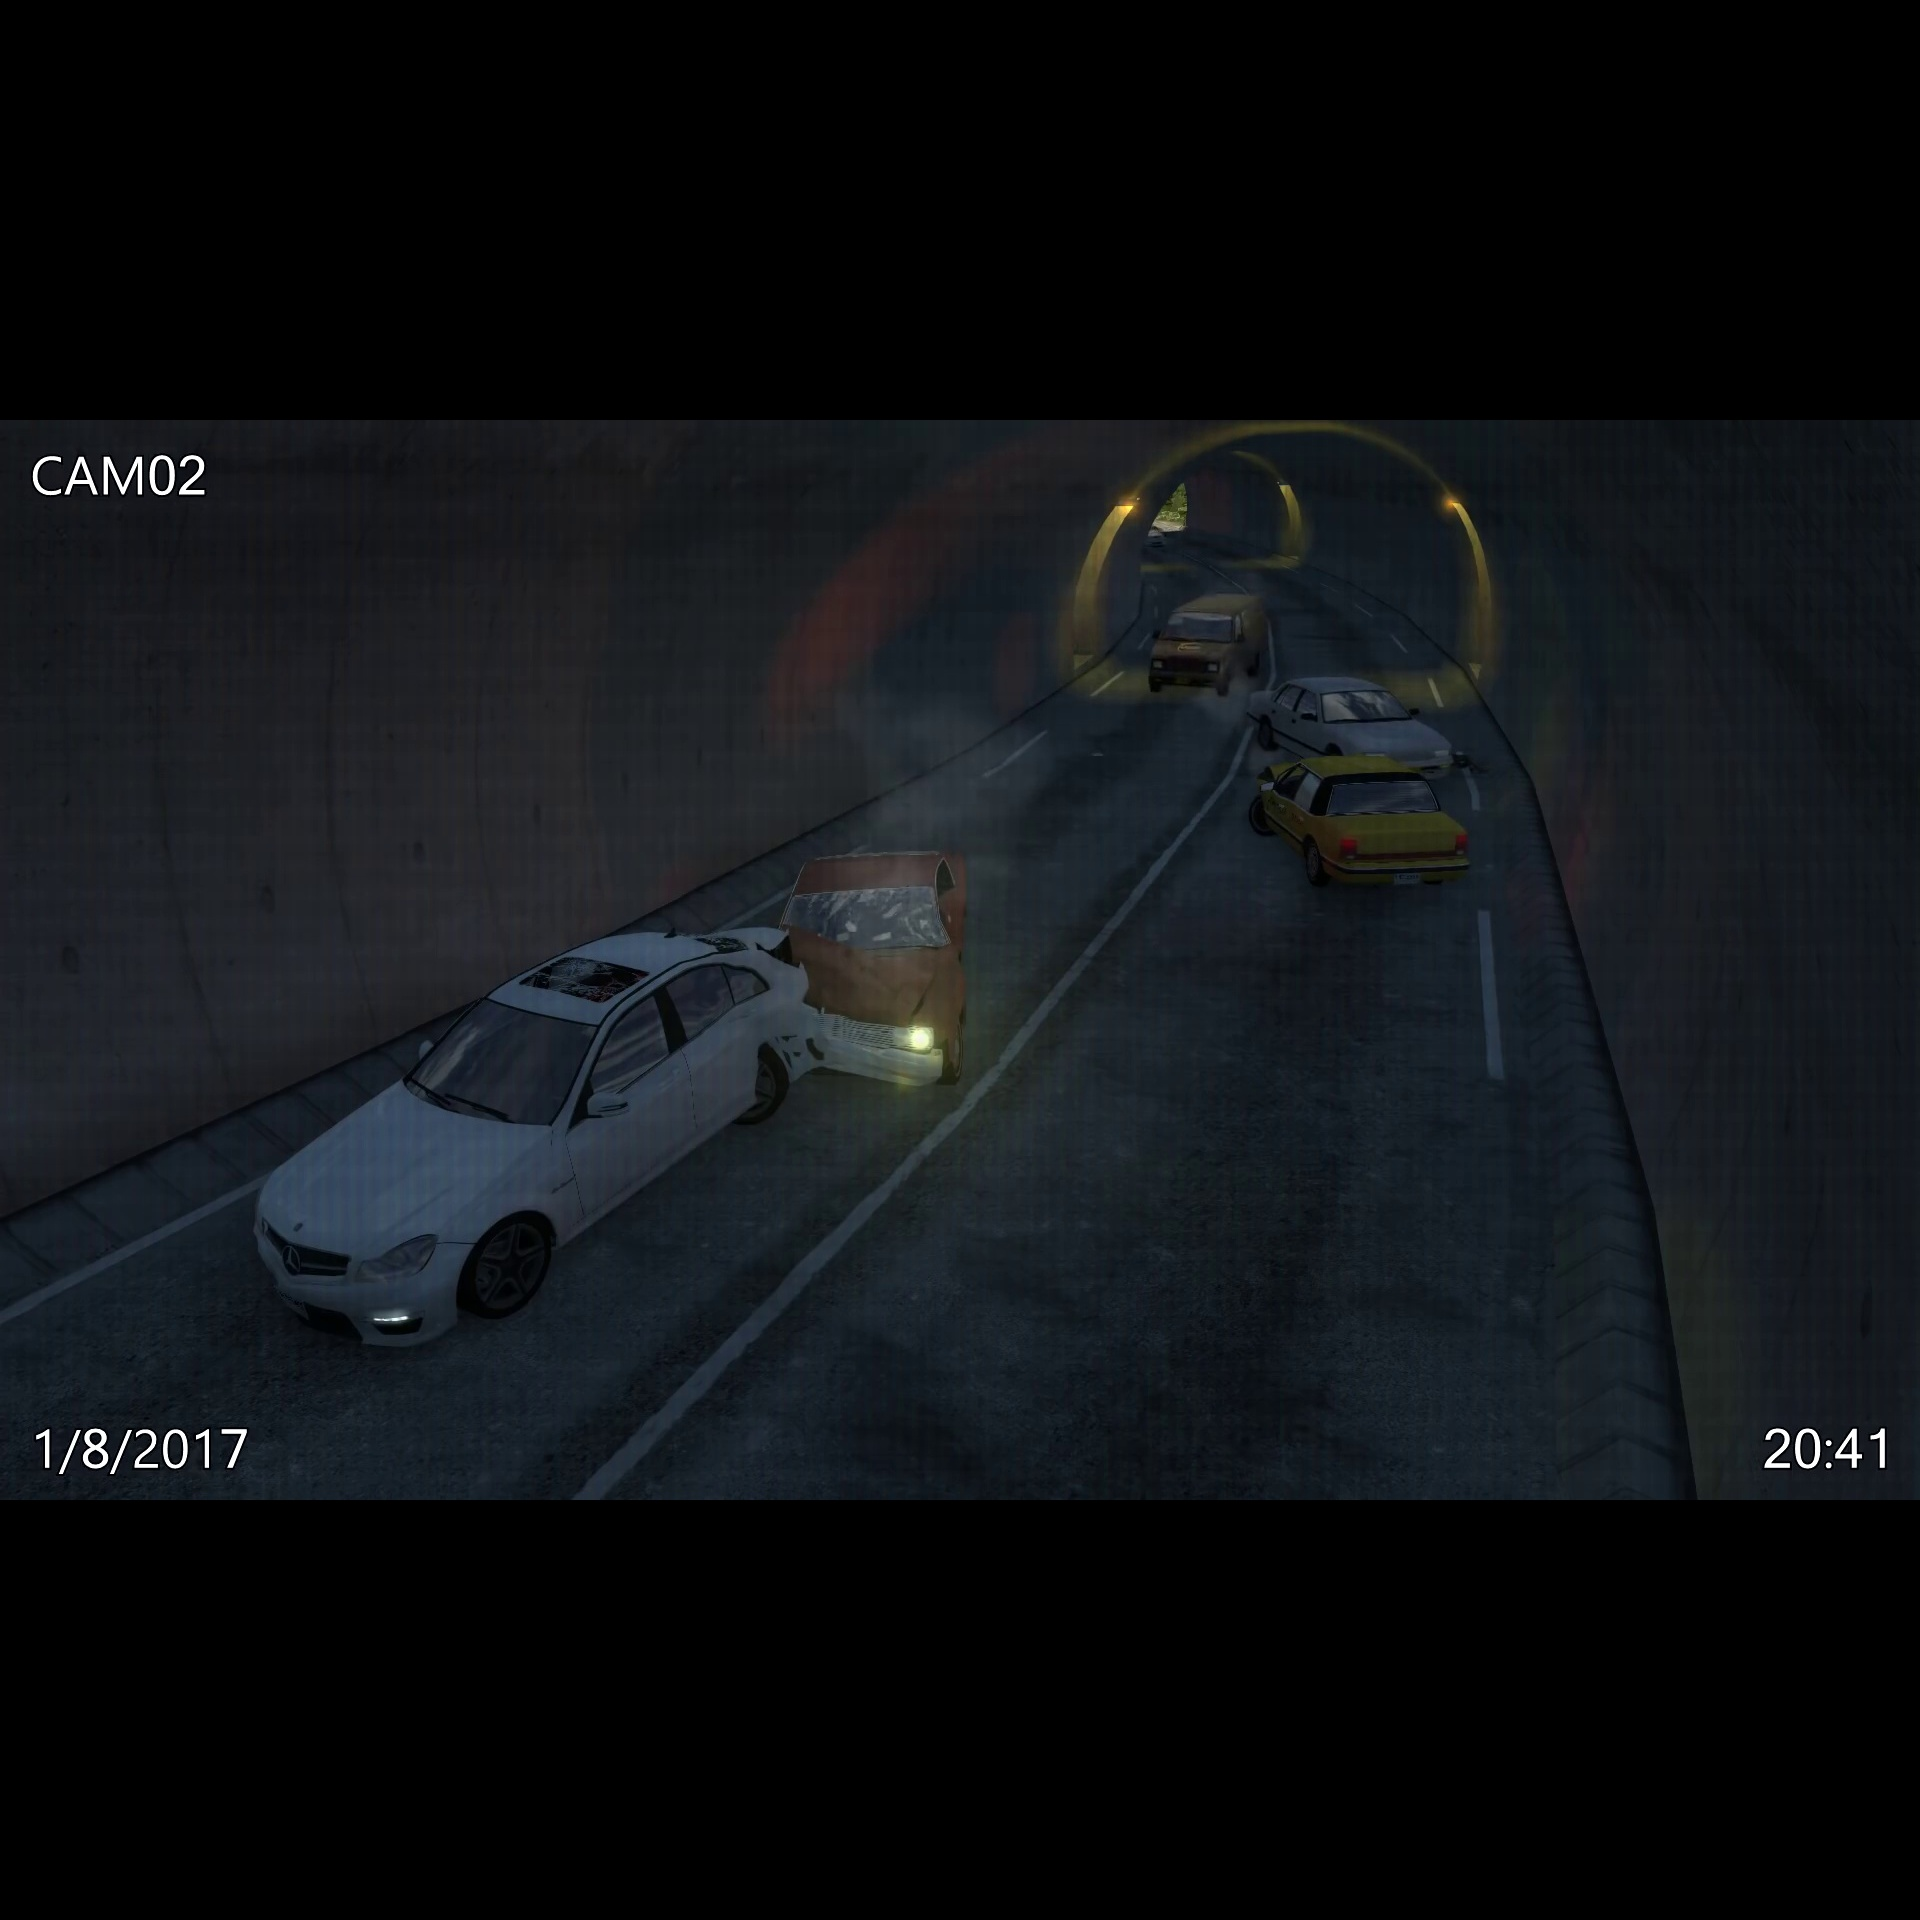vehicle: (243, 918, 814, 1366), (788, 833, 986, 1102), (1245, 753, 1477, 897), (1245, 672, 1465, 784), (1143, 582, 1276, 700)
